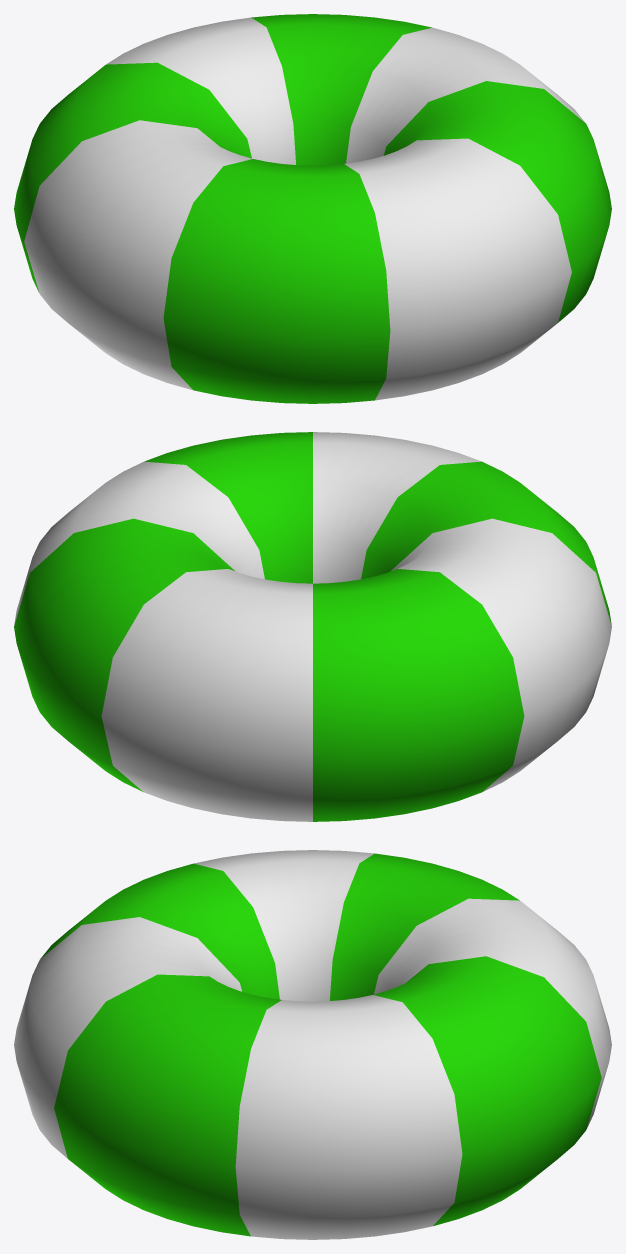
The picture shows the model from 3 angles, top to bottom: view 1: azimuth 30°, elevation 25°; view 2: azimuth 150°, elevation 25°; view 3: azimuth 270°, elevation 25°; orthographic projection.
Visible parts, largest first — view 1: Torus; view 2: Torus; view 3: Torus.
Boxes of the visible parts, left/top/right/bottom form: Torus: left=14, top=14, right=611, bottom=403; Torus: left=14, top=432, right=611, bottom=821; Torus: left=14, top=850, right=611, bottom=1239.
Size of the model in its own units: 2.5 by 1 by 2.5.
